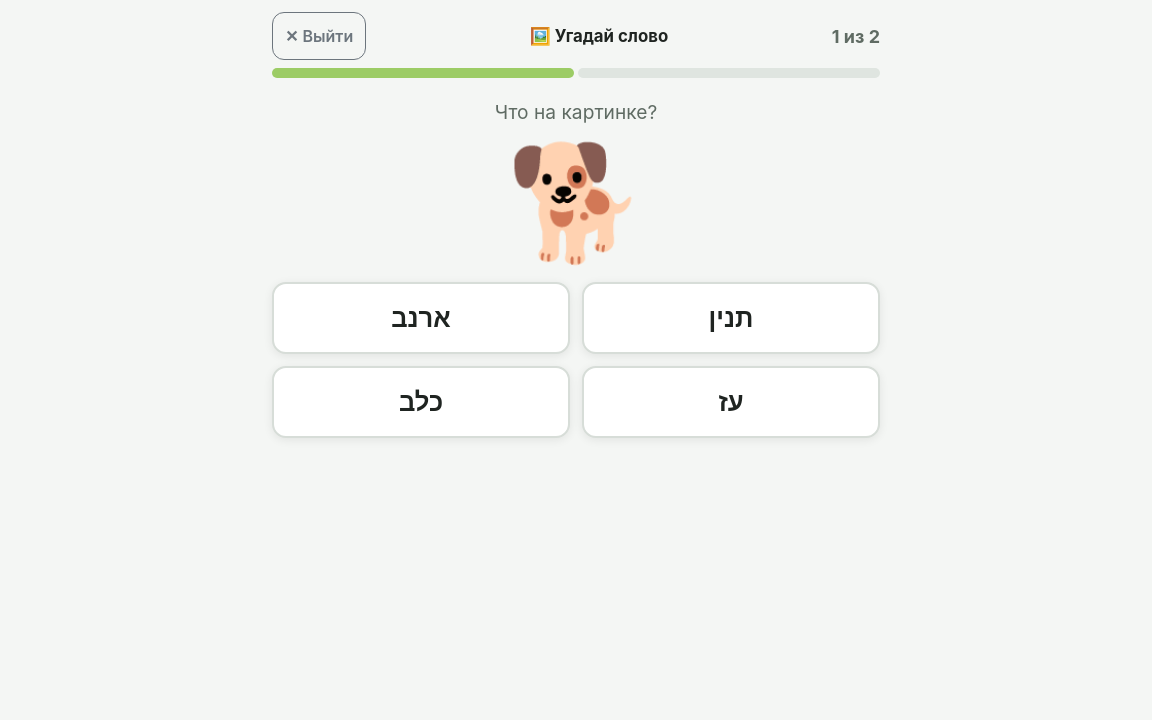
Test case: PlayPage › выход посреди раунда спрашивает подтверждение
The image size is (1152, 720).
Click the button with class "option-btn" showing "כלב" at (421, 402), box left=272, top=366, right=570, bottom=438
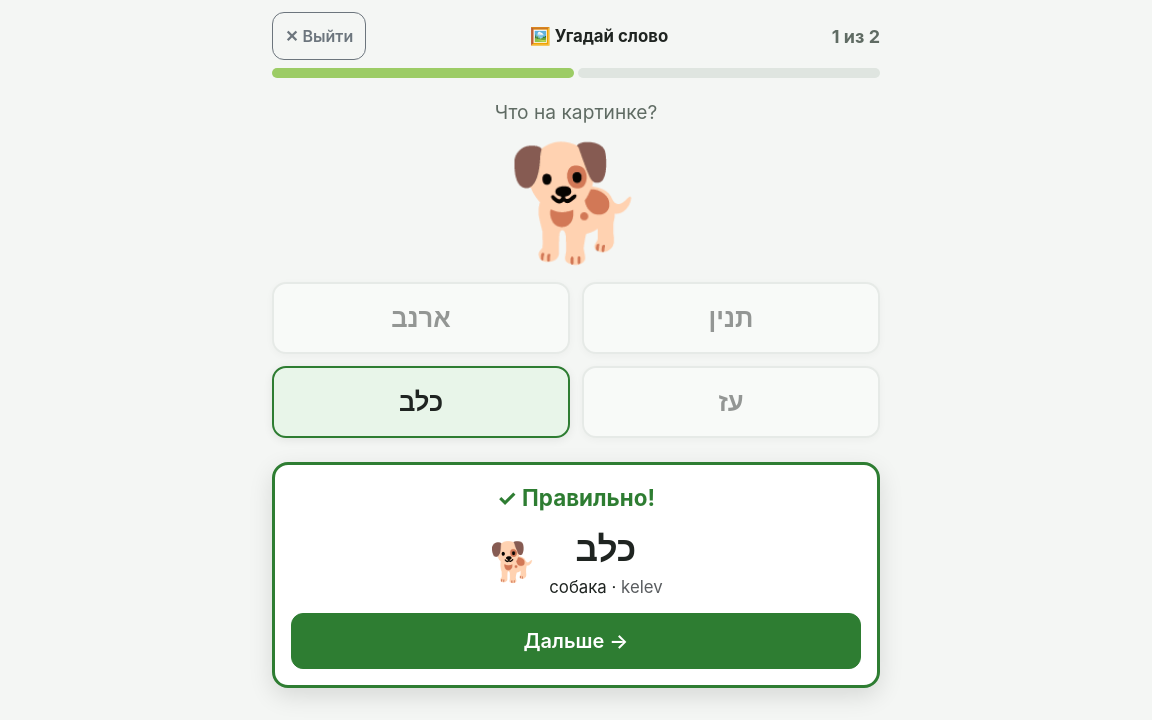
Click the button "Дальше →" at (576, 641), box left=291, top=613, right=861, bottom=669
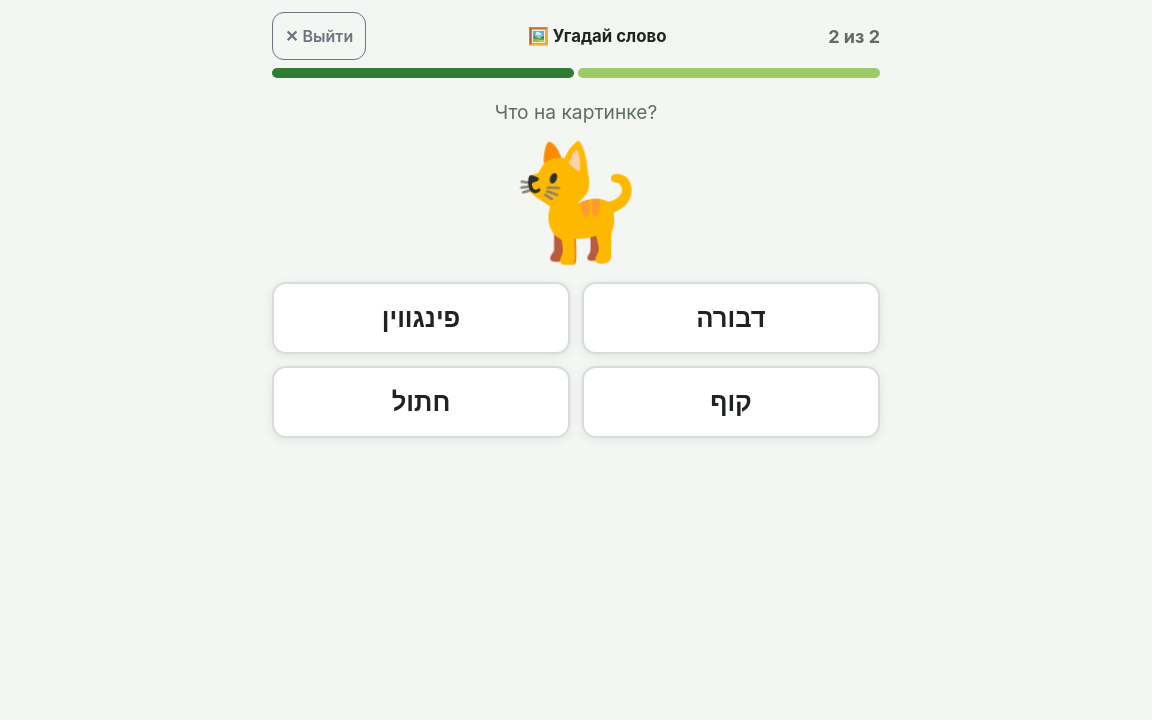
Click the button "✕ Выйти" at (319, 36), box left=272, top=12, right=366, bottom=60
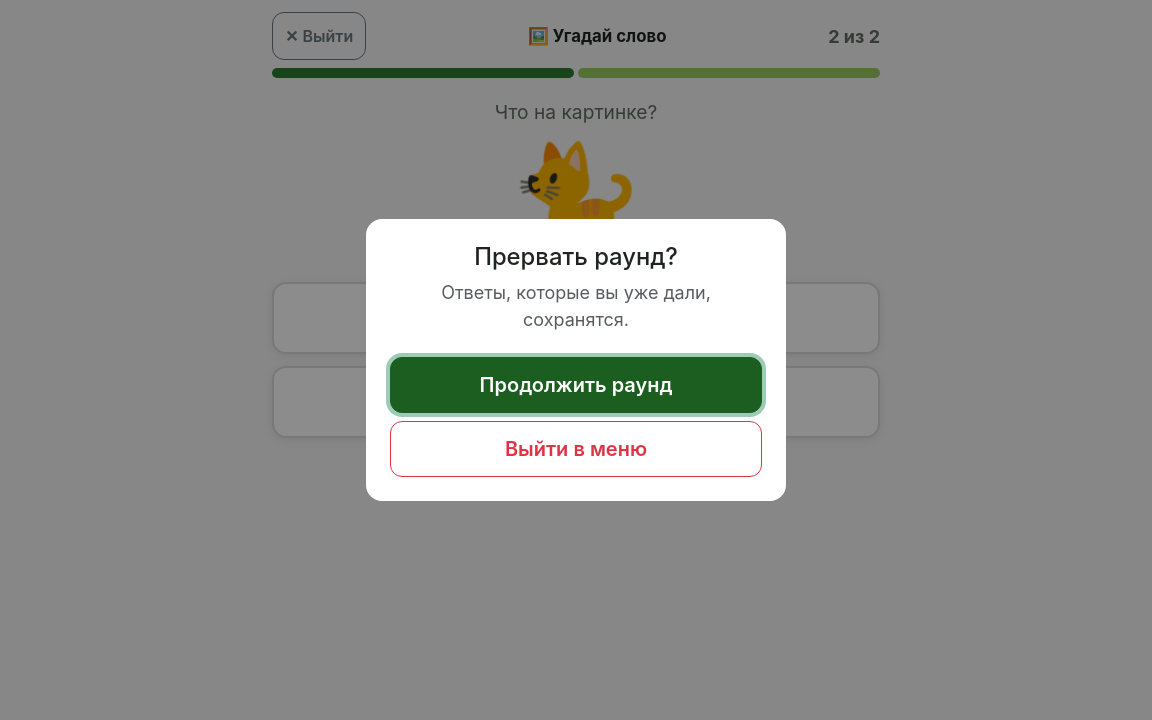
expect the heading "Прервать раунд?" is shown: met, box left=474, top=242, right=678, bottom=271
Click the button "Продолжить раунд" at (576, 385), box left=390, top=357, right=762, bottom=413
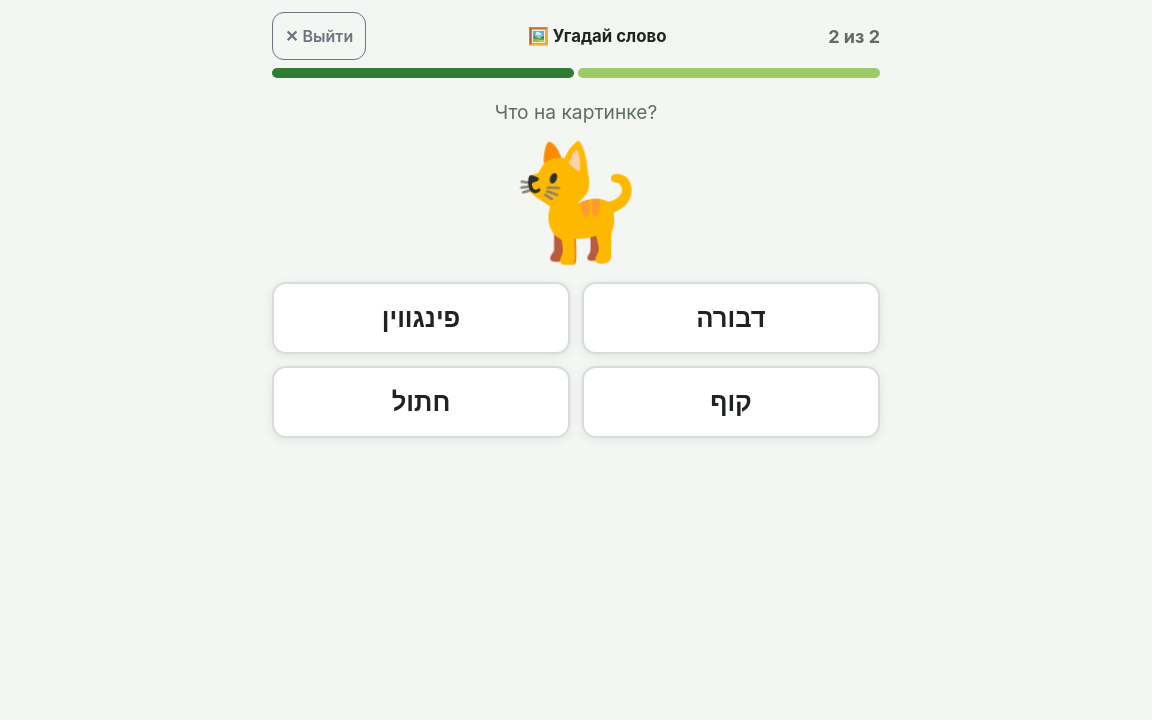
Click the button "✕ Выйти" at (319, 36), box left=272, top=12, right=366, bottom=60
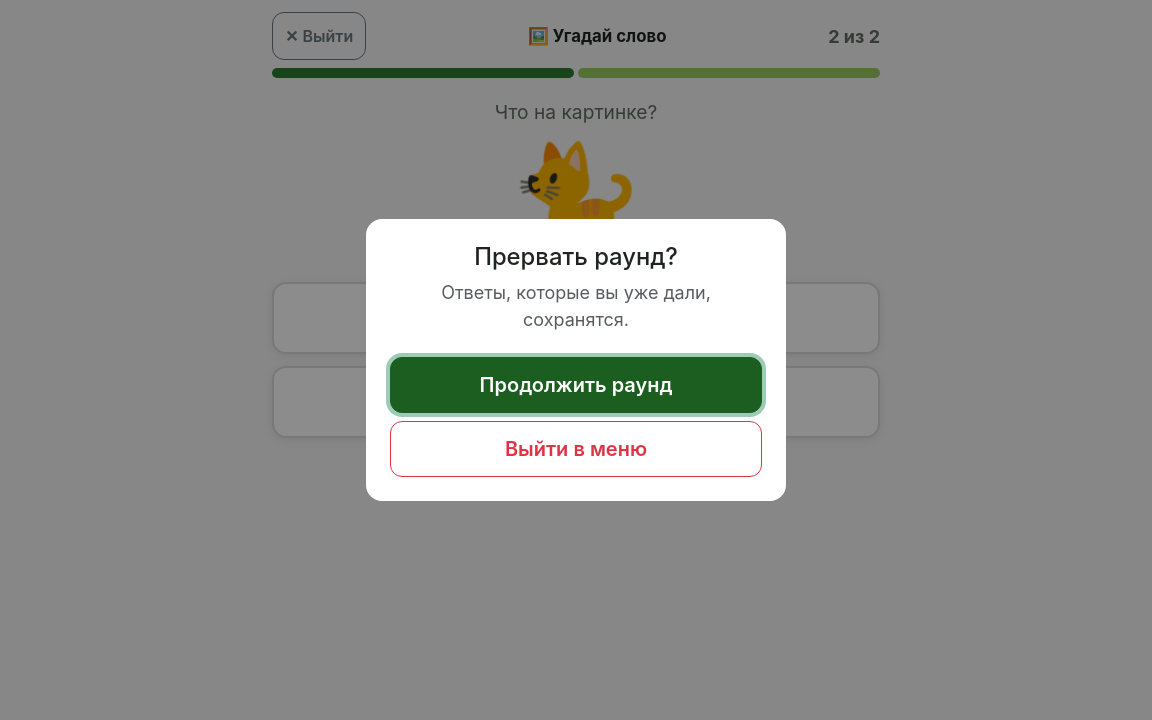
Click the button "Выйти в меню" at (576, 449), box left=390, top=421, right=762, bottom=477
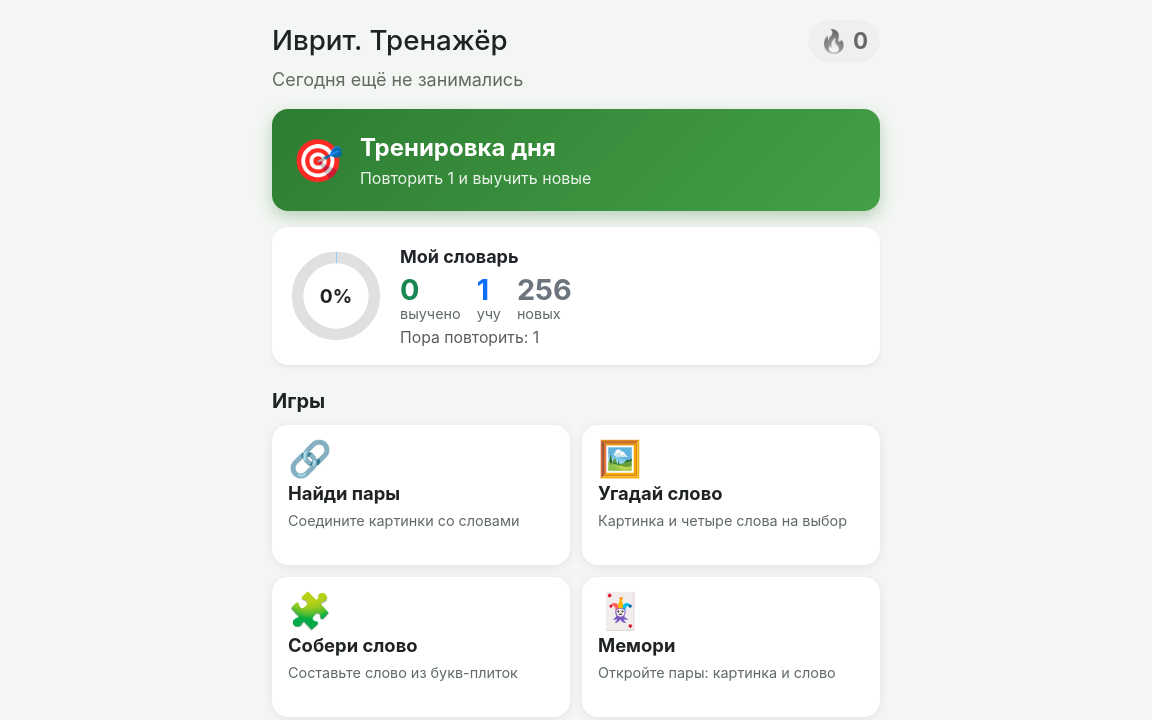
expect the text "Мой словарь" is shown: met, box left=400, top=246, right=519, bottom=267
